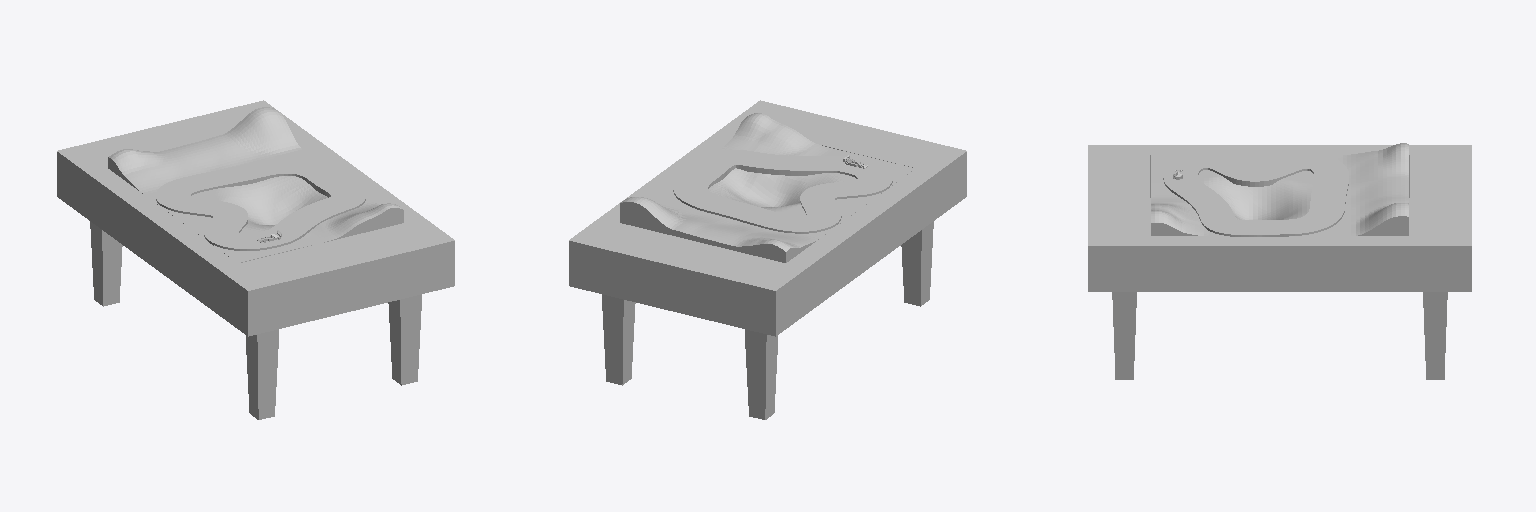
The model's file is NewestTisch57.obj.
The picture shows the model from 3 angles: view 1: azimuth 30°, elevation 25°; view 2: azimuth 150°, elevation 25°; view 3: azimuth 270°, elevation 25°; orthographic projection.
Visible parts, largest first — view 1: Tischplatte_wood_table_001, Landschaft_aerial_grass_rock, off, Bein1_wood_table_001, Bein4_wood_table_001.003, Bein3_wood_table_001.002; view 2: Tischplatte_wood_table_001, Landschaft_aerial_grass_rock, off, Bein2_wood_table_001.001, Bein3_wood_table_001.002, Bein4_wood_table_001.003; view 3: Tischplatte_wood_table_001, Landschaft_aerial_grass_rock, off, Bein1_wood_table_001, Bein2_wood_table_001.001.
Boxes of the visible parts, x1=… form: Tischplatte_wood_table_001: x1=57, y1=100, x2=454, y2=336; Landschaft_aerial_grass_rock: x1=108, y1=107, x2=403, y2=262; off: x1=156, y1=159, x2=365, y2=250; Bein1_wood_table_001: x1=388, y1=294, x2=421, y2=385; Bein4_wood_table_001.003: x1=246, y1=329, x2=278, y2=419; Bein3_wood_table_001.002: x1=90, y1=221, x2=122, y2=306; Tischplatte_wood_table_001: x1=569, y1=100, x2=966, y2=336; Landschaft_aerial_grass_rock: x1=620, y1=113, x2=915, y2=262; off: x1=673, y1=150, x2=892, y2=233; Bein2_wood_table_001.001: x1=602, y1=294, x2=635, y2=385; Bein3_wood_table_001.002: x1=745, y1=329, x2=777, y2=419; Bein4_wood_table_001.003: x1=901, y1=221, x2=933, y2=306; Tischplatte_wood_table_001: x1=1088, y1=145, x2=1471, y2=291; Landschaft_aerial_grass_rock: x1=1151, y1=143, x2=1408, y2=235; off: x1=1163, y1=153, x2=1348, y2=236; Bein1_wood_table_001: x1=1112, y1=292, x2=1136, y2=379; Bein2_wood_table_001.001: x1=1423, y1=292, x2=1447, y2=379.
Bounding box in the file's own units: 5 × 3.91 × 8.